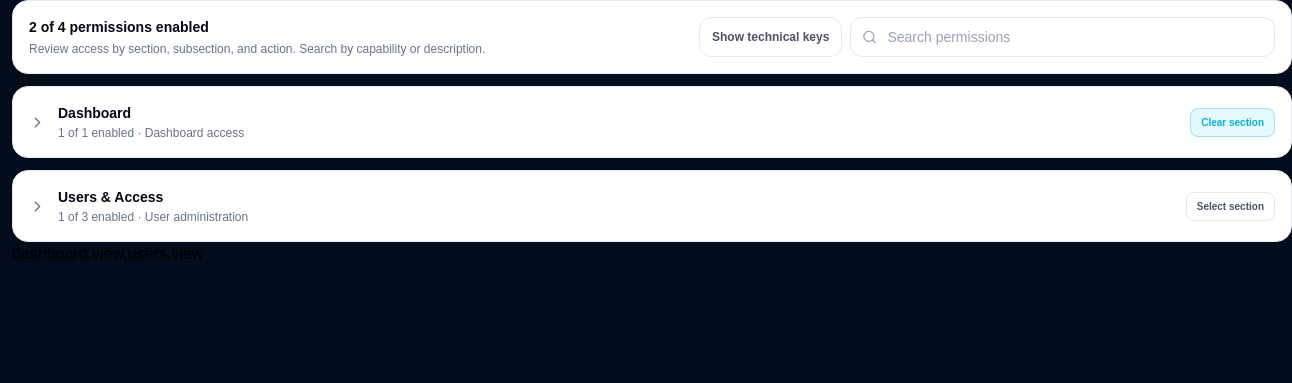
Test: PermissionEditor › searches labels, subsection descriptions, and permission keys without changing selections
Type "roles.view" into the search field with placeholder "Search permissions". click: (1063, 37)
box: [850,17,1275,57]
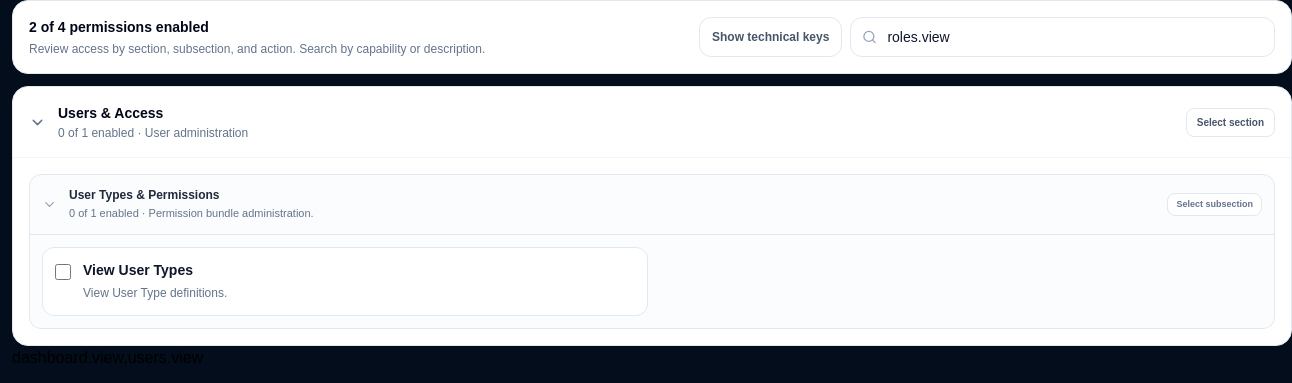
Expected: the text with test id "permissions" reads "dashboard.view,users.view", [12,349,203,366]
Result: the text "View User Types" is shown at [83,260,193,280]
